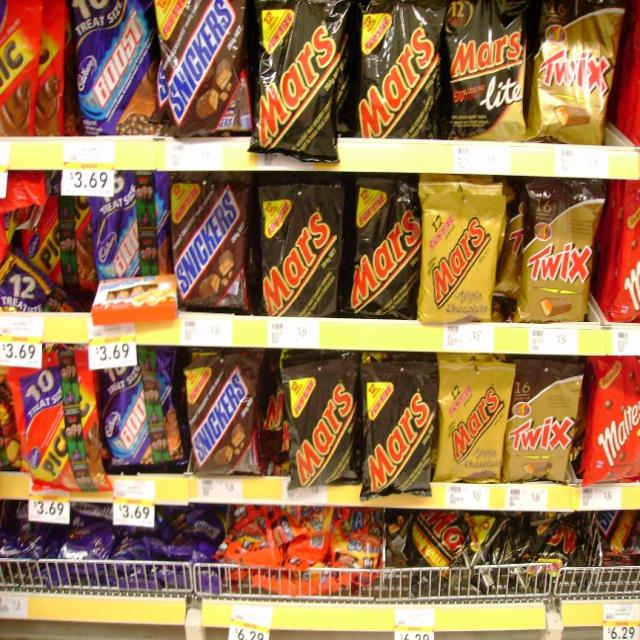q142: (150, 0, 252, 141), (170, 184, 254, 315), (181, 360, 264, 475)
